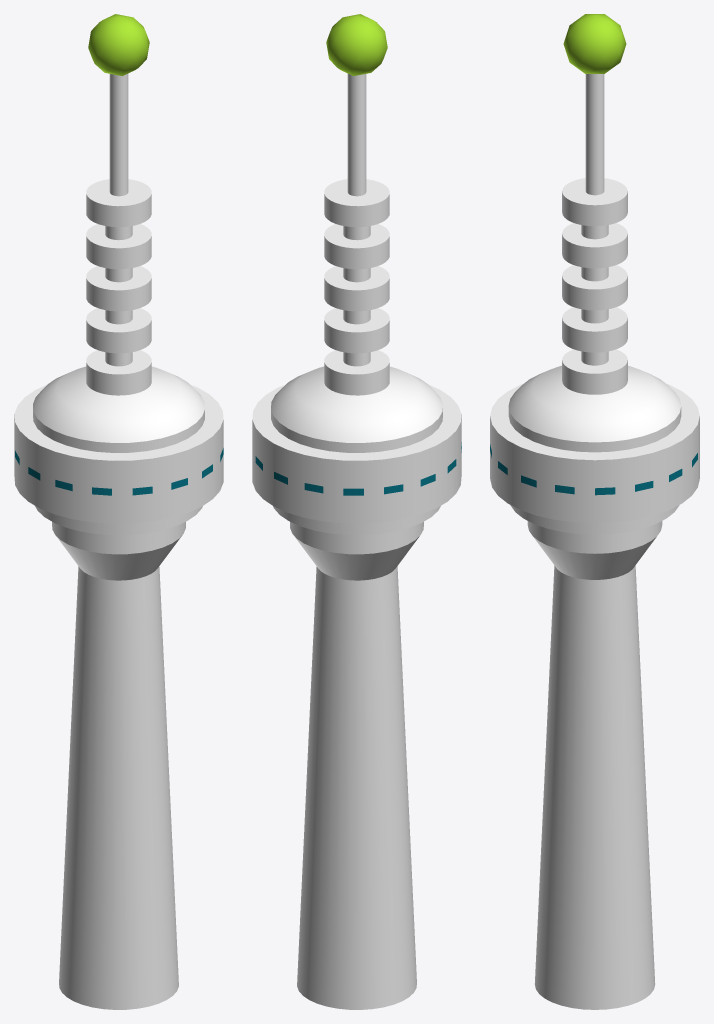
Rendered from Piruli.fbx.
The picture shows the model from 3 angles, left to right: view 1: azimuth 30°, elevation 25°; view 2: azimuth 150°, elevation 25°; view 3: azimuth 270°, elevation 25°; orthographic projection.
Parts seen in each view (by area): view 1: Piruli; view 2: Piruli; view 3: Piruli.
Part boxes in pixels (x1,y1,x2,y2): Piruli: (14, 14, 223, 1009); Piruli: (252, 14, 461, 1009); Piruli: (490, 14, 699, 1009).
Size of the model in its own units: 66.55 by 339 by 66.55.
